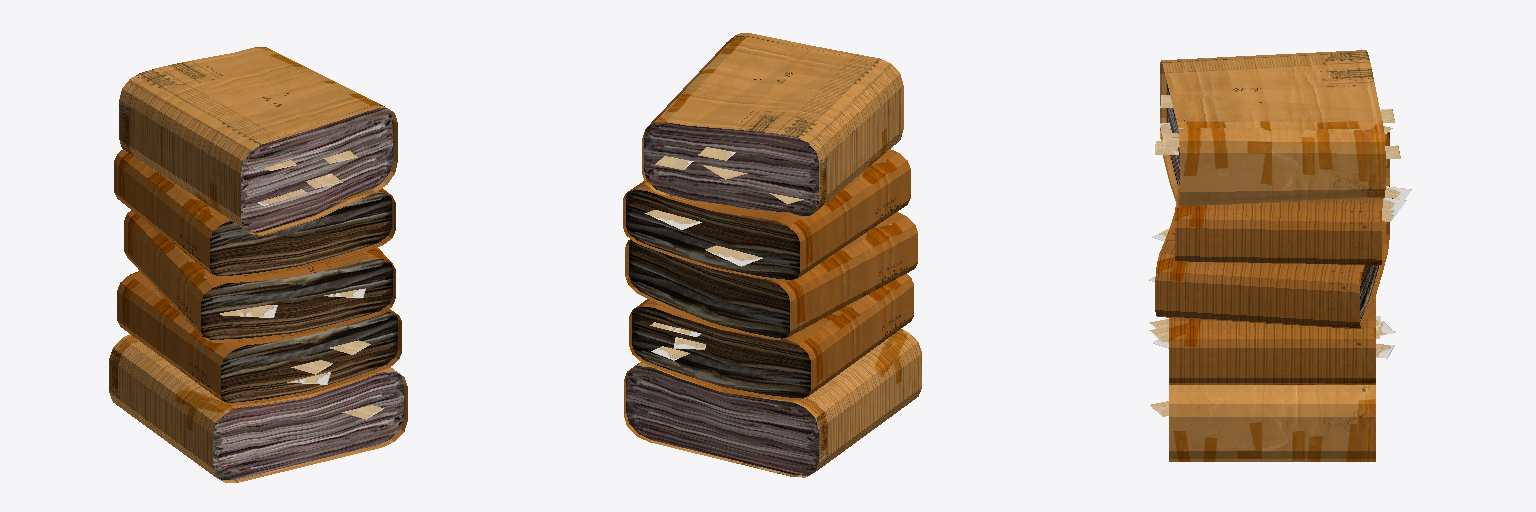
3 views of the same model, side by side, from view 1: azimuth 30°, elevation 25°; view 2: azimuth 150°, elevation 25°; view 3: azimuth 270°, elevation 25° (orthographic).
Visible parts, largest first — view 1: decor_paperstack_column2; view 2: decor_paperstack_column2; view 3: decor_paperstack_column2.
Part boxes in pixels (left/top/right/bottom): decor_paperstack_column2: left=109, top=47, right=407, bottom=482; decor_paperstack_column2: left=623, top=33, right=921, bottom=477; decor_paperstack_column2: left=1149, top=50, right=1411, bottom=461.
Bounding box in the file's own units: 36.57 × 57.32 × 40.83.
Materials: 1 (1 with a texture image).